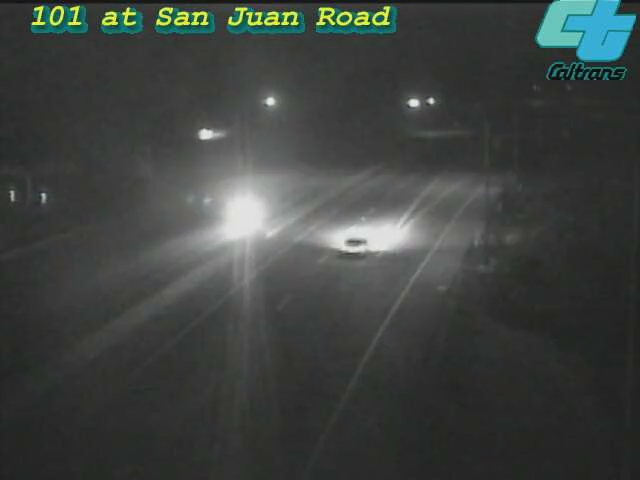vehicle: (313, 207, 393, 287), (197, 174, 277, 254)
